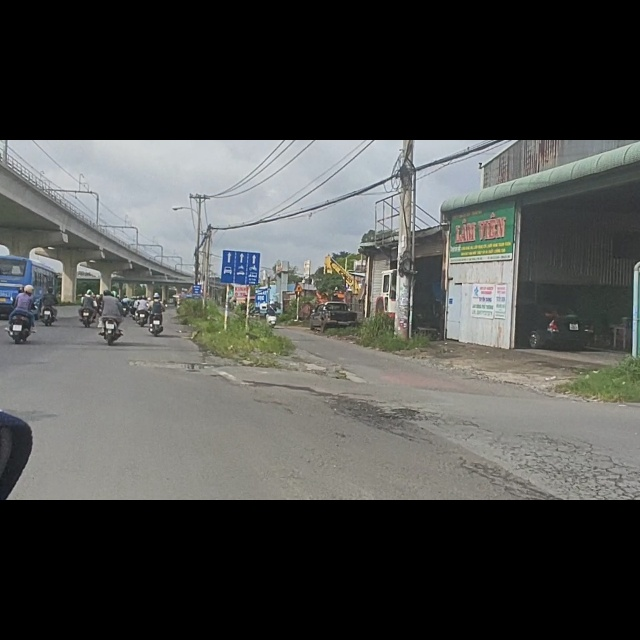bien_chi_dan: (221, 190, 262, 262)
